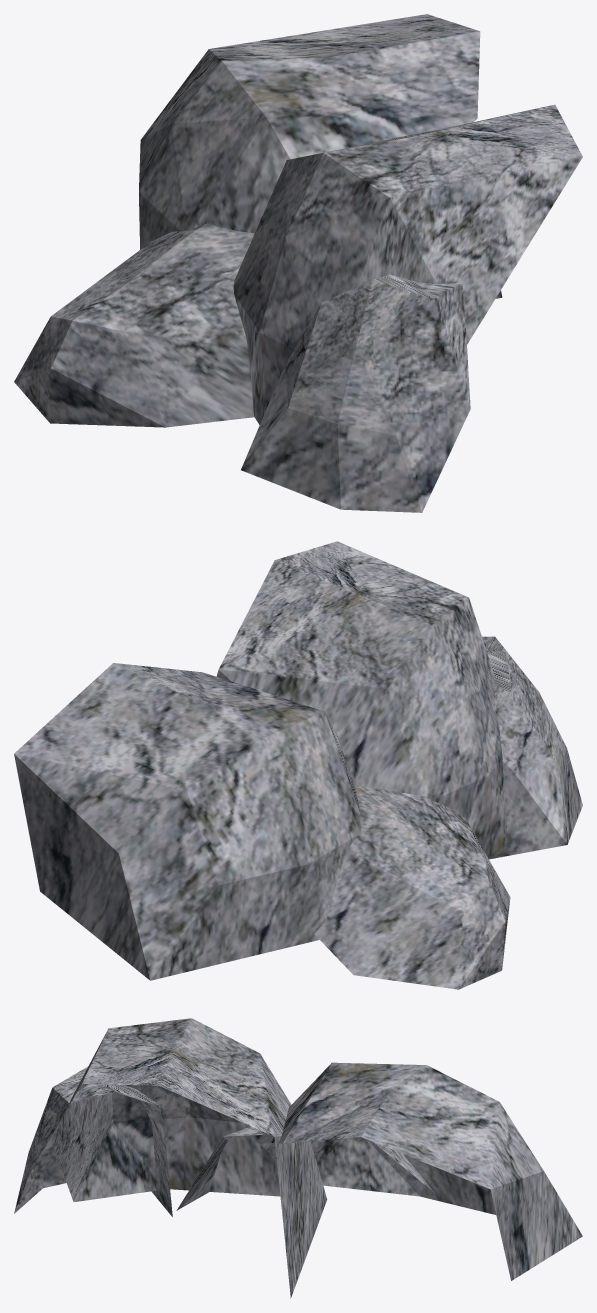
The model's file is des_rockgp1_01.obj.
3 views of the same model, one above another, from view 1: azimuth 30°, elevation 25°; view 2: azimuth 150°, elevation 25°; view 3: azimuth 270°, elevation 25° (orthographic). The views are drawn at different scales.
Parts seen in each view (by area): view 1: des_rockgp1_01; view 2: des_rockgp1_01; view 3: des_rockgp1_01.
Part boxes in pixels (x1=…): des_rockgp1_01: x1=14, y1=14, x2=582, y2=512; des_rockgp1_01: x1=14, y1=541, x2=582, y2=989; des_rockgp1_01: x1=14, y1=1018, x2=582, y2=1298.
Size of the model in its own units: 41.94 by 25.79 by 56.89.
2 materials, 2 textured.
